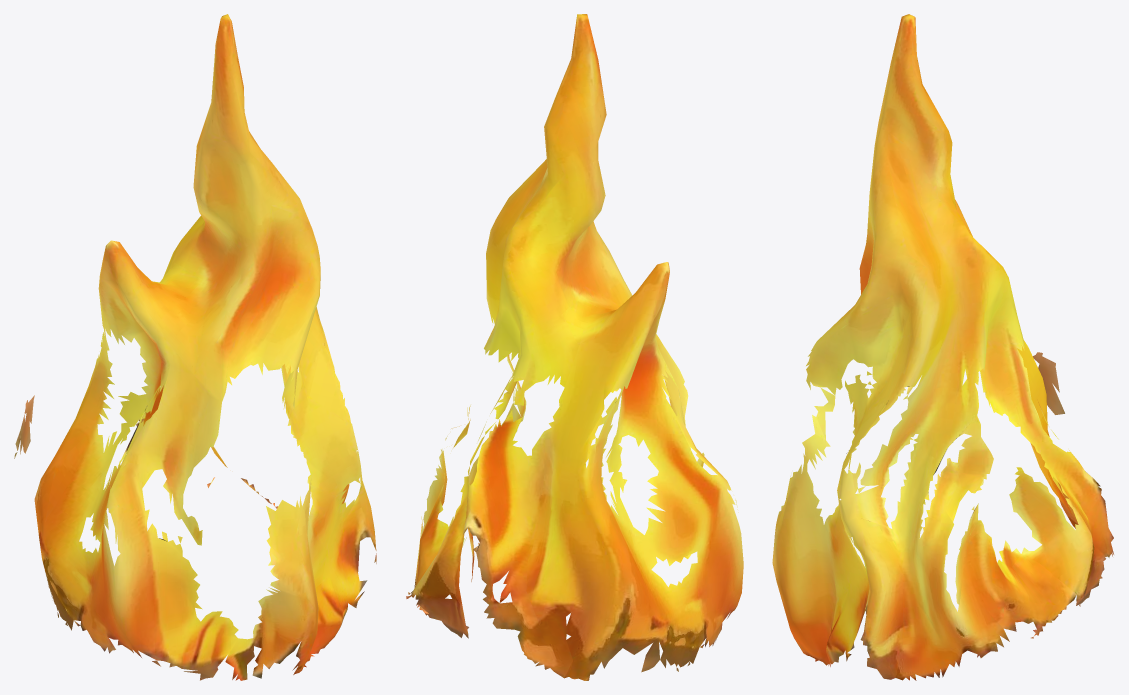
The model's file is TorchWallFlame.glb.
3 renders of one model, left to right at view 1: azimuth 30°, elevation 25°; view 2: azimuth 150°, elevation 25°; view 3: azimuth 270°, elevation 25°, orthographic.
Visible parts, largest first — view 1: TorchWallFlame; view 2: TorchWallFlame; view 3: TorchWallFlame.
Part boxes in pixels (x1=…): TorchWallFlame: x1=14, y1=14, x2=376, y2=680; TorchWallFlame: x1=406, y1=14, x2=743, y2=680; TorchWallFlame: x1=772, y1=14, x2=1113, y2=680.
Size of the model in its own units: 0.1228 by 0.2523 by 0.1242.
1 material, 1 textured.
